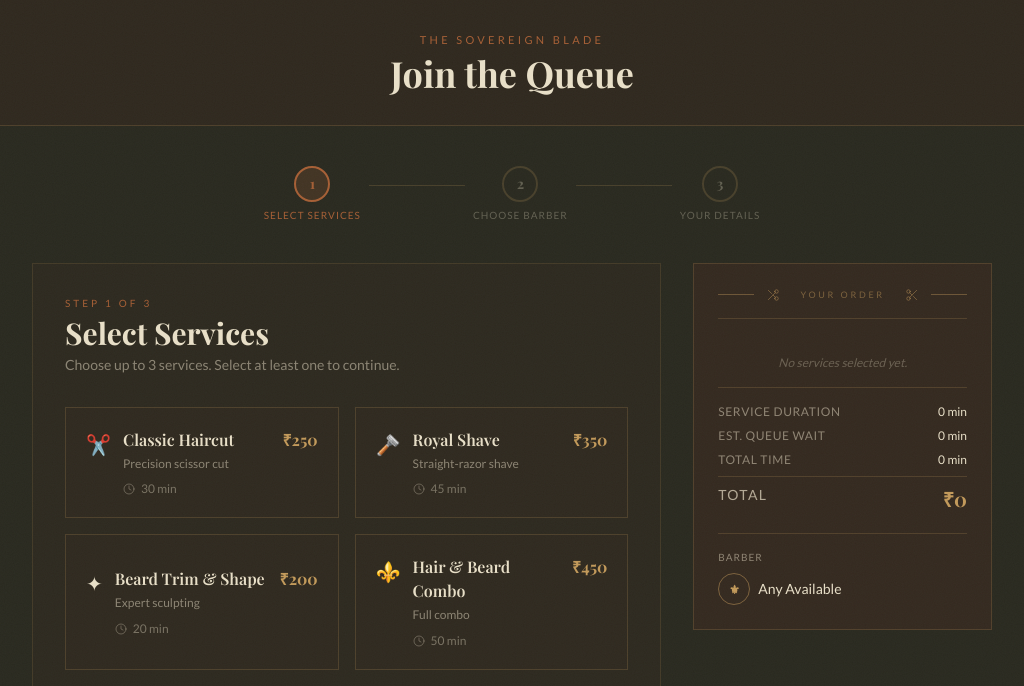
Test: JoinQueuePage — Step 1 (Services) › deselects a service when clicked again
Click the button "✂️ Classic Haircut ₹250 Precision scissor cut 30 min".
click(202, 462)  # box [65,406,339,518]
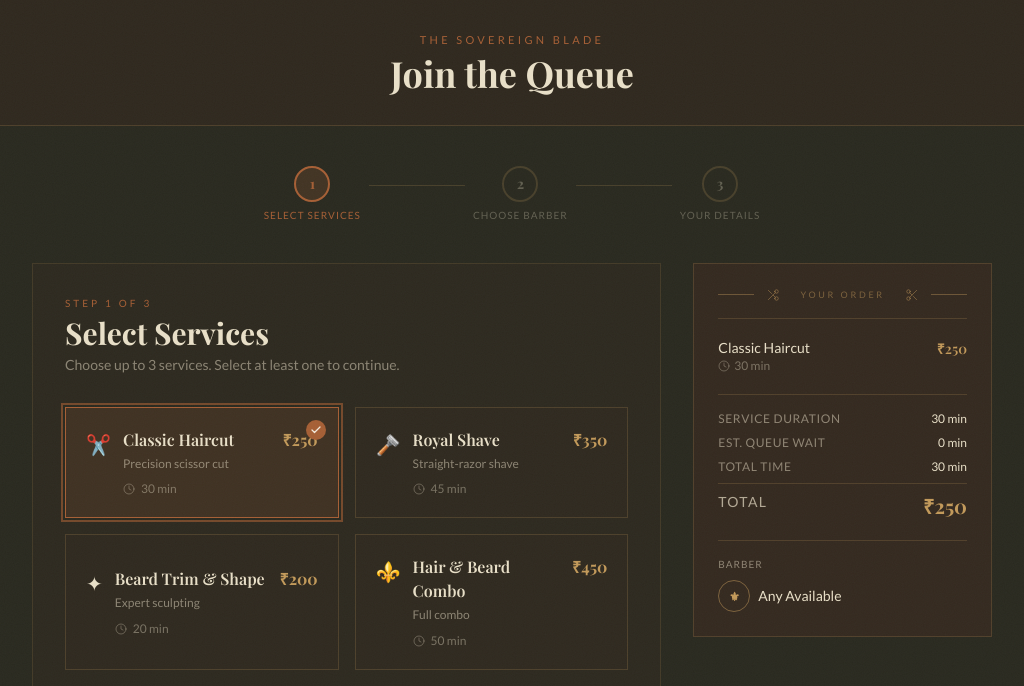
Click the button "✂️ Classic Haircut ₹250 Precision scissor cut 30 min".
click(202, 462)  # box [65,406,339,518]
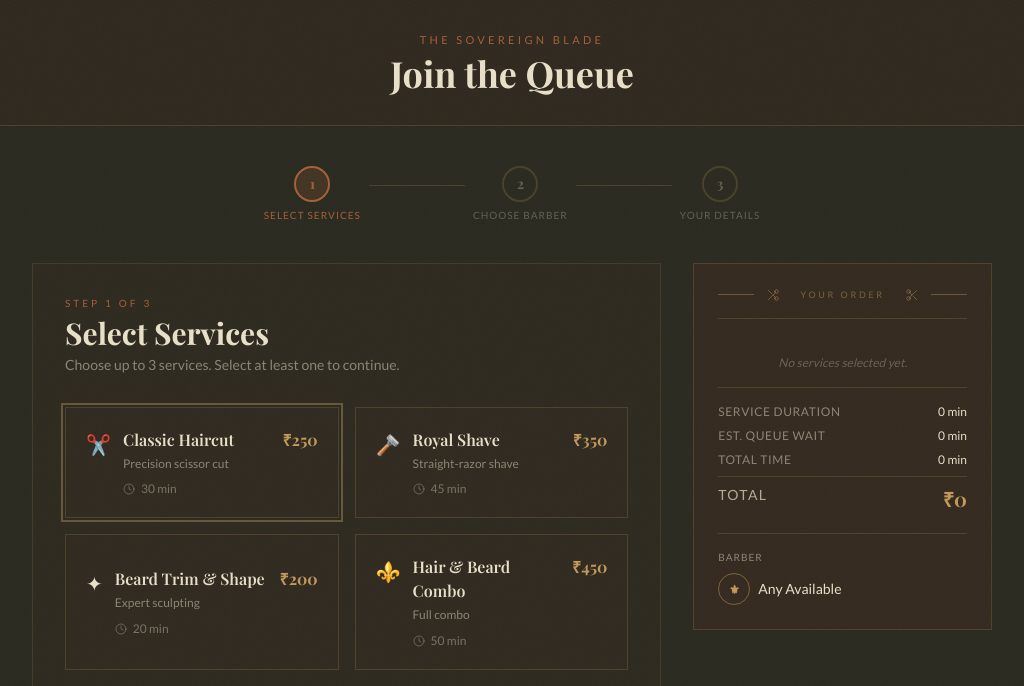
Now the button "✂️ Classic Haircut ₹250 Precision scissor cut 30 min" is not pressed, box [65,406,339,518]
